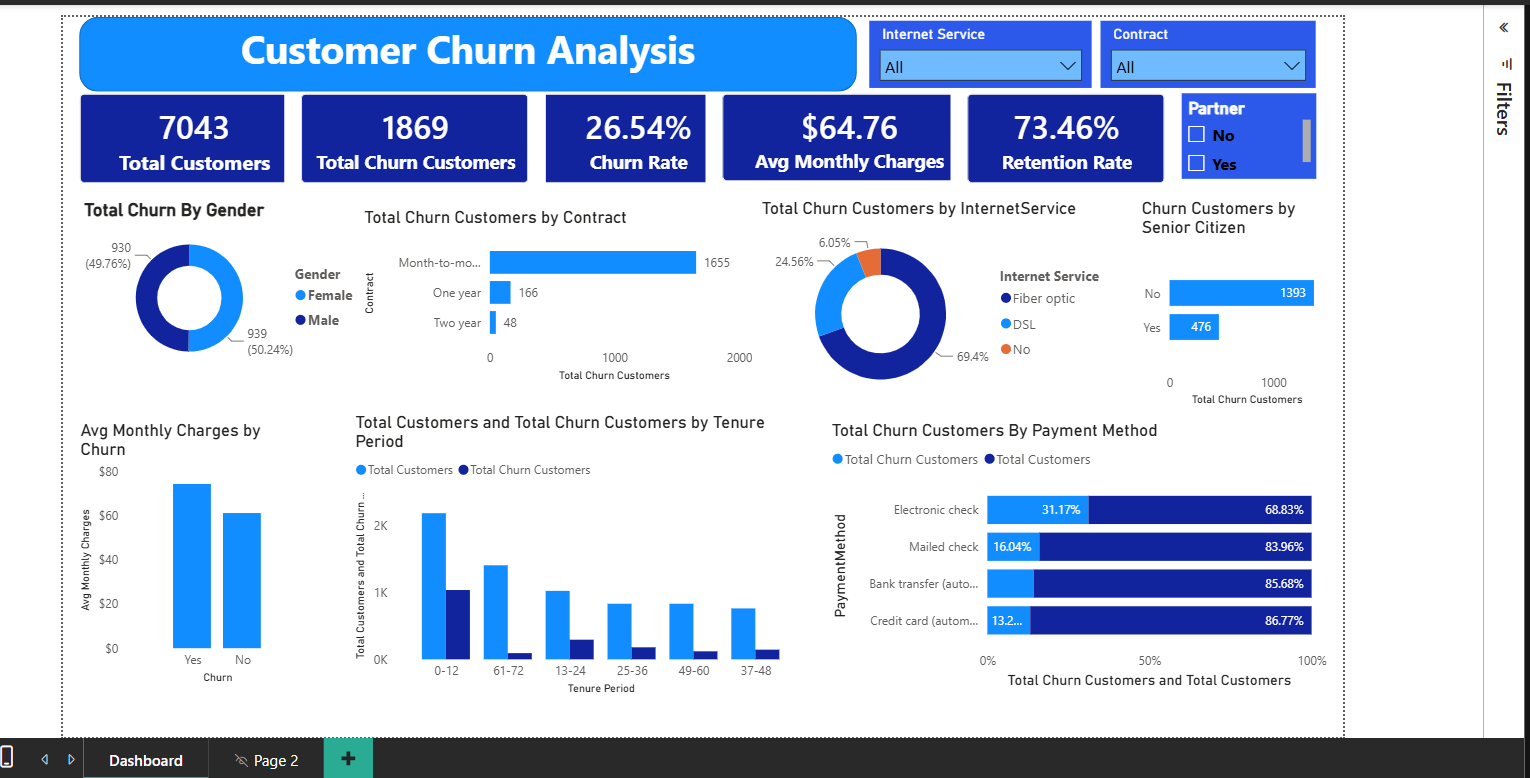

What the dashboard file says about the page in this screenshot:
{"tool":"powerbi","page":{"name":"Dashboard","canvas":[1280,720],"ordinal":0},"visuals":[{"type":"cardVisual","fields":{"Data":["Customer-Churn.Total Customers"]},"box":[0,59.7,261.2,123.2],"z":0},{"type":"cardVisual","fields":{"Data":["Customer-Churn.Churn Rate"]},"box":[533.8,48,251.1,134.5],"z":1000},{"type":"cardVisual","fields":{"Data":["Customer-Churn.Churn Rate"]},"box":[456.5,59.7,237.6,123.2],"z":2000},{"type":"cardVisual","fields":{"Data":["Customer-Churn.Avg Monthly Charges"]},"box":[641.9,59.7,286.1,121.9],"z":3000},{"type":"donutChart","title":"Total Churn By Gender","fields":{"Category":["Customer-Churn.gender"],"Y":["Customer-Churn.Total Churn Customers"]},"box":[11.2,190,288.8,177.5],"z":4000},{"type":"clusteredBarChart","fields":{"Category":["Customer-Churn.Contract"],"Y":["Customer-Churn.Total Churn Customers"]},"box":[296.1,190.3,398.1,179.1],"z":5000},{"type":"cardVisual","fields":{"Data":["Customer-Churn.Total Churn Customers"]},"box":[221.4,59.7,261.2,123.2],"z":6000},{"type":"donutChart","fields":{"Category":["Customer-Churn.InternetService"],"Y":["Customer-Churn.Total Churn Customers"]},"box":[694.1,181.6,362,212.7],"z":7000},{"type":"clusteredColumnChart","fields":{"Y":["Customer-Churn.Avg Monthly Charges"],"Category":["Customer-Churn.Churn"]},"box":[11.2,413.8,237.5,277.5],"z":8000},{"type":"clusteredColumnChart","fields":{"Category":["Customer-Churn.Tenure Period"],"Y":["Customer-Churn.Total Customers","Customer-Churn.Total Churn Customers"]},"box":[261.2,403.8,371.2,297.5],"z":9000},{"type":"hundredPercentStackedBarChart","title":"Total Churn Customers By Payment Method","fields":{"Category":["Customer-Churn.PaymentMethod"],"Y":["Customer-Churn.Total Churn Customers","Customer-Churn.Total Customers"]},"box":[642.5,413.8,610,297.5],"z":10000},{"type":"slicer","fields":{"Values":["Customer-Churn.Partner"]},"box":[1112.1,75.9,140.6,85.8],"z":11000},{"type":"shape","box":[16.2,0,777.5,74.6],"z":12000},{"type":"cardVisual","fields":{"Data":["Customer-Churn.Retention Rate"]},"box":[886.9,59.7,231.4,123.2],"z":13000},{"type":"clusteredBarChart","title":"Churn Customers by Senior Citizen","fields":{"Category":["Customer-Churn.SeniorCitizen"],"Y":["Customer-Churn.Total Churn Customers"]},"box":[1073.5,181.6,206.5,212.7],"z":14000},{"type":"slicer","fields":{"Values":["Customer-Churn.InternetService"]},"box":[806.1,3.7,222.7,67.2],"z":15000},{"type":"slicer","fields":{"Values":["Customer-Churn.Contract"]},"box":[1037.5,3.7,215.2,67.2],"z":16000}]}

Visuals, with their boxes on the page's 1280x720 design canvas (x1, y1, x2, y2). These are canvas units, not pixel positions in the 1530x778 screenshot, which may show the page scaled, cropped or inside an application window:
cardVisual - Customer-Churn.Total Customers: 0:60:261:183
cardVisual - Customer-Churn.Churn Rate: 534:48:785:182
cardVisual - Customer-Churn.Churn Rate: 456:60:694:183
cardVisual - Customer-Churn.Avg Monthly Charges: 642:60:928:182
"Total Churn By Gender" donutChart: 11:190:300:368
clusteredBarChart - Customer-Churn.Contract x Customer-Churn.Total Churn Customers: 296:190:694:369
cardVisual - Customer-Churn.Total Churn Customers: 221:60:483:183
donutChart - Customer-Churn.InternetService x Customer-Churn.Total Churn Customers: 694:182:1056:394
clusteredColumnChart - Customer-Churn.Avg Monthly Charges x Customer-Churn.Churn: 11:414:249:691
clusteredColumnChart - Customer-Churn.Tenure Period x Customer-Churn.Total Customers: 261:404:632:701
"Total Churn Customers By Payment Method" hundredPercentStackedBarChart: 642:414:1252:711
slicer - Customer-Churn.Partner: 1112:76:1253:162
shape: 16:0:794:75
cardVisual - Customer-Churn.Retention Rate: 887:60:1118:183
"Churn Customers by Senior Citizen" clusteredBarChart: 1074:182:1280:394
slicer - Customer-Churn.InternetService: 806:4:1029:71
slicer - Customer-Churn.Contract: 1038:4:1253:71
